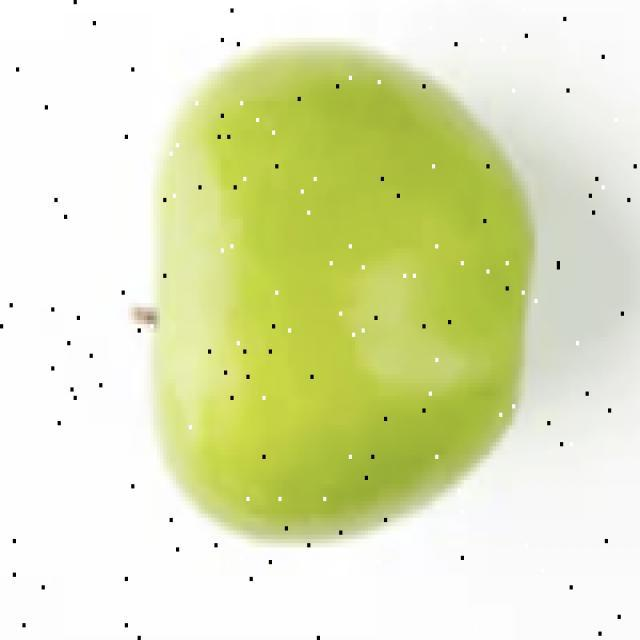Fresh Apple: (147, 47, 545, 538)
